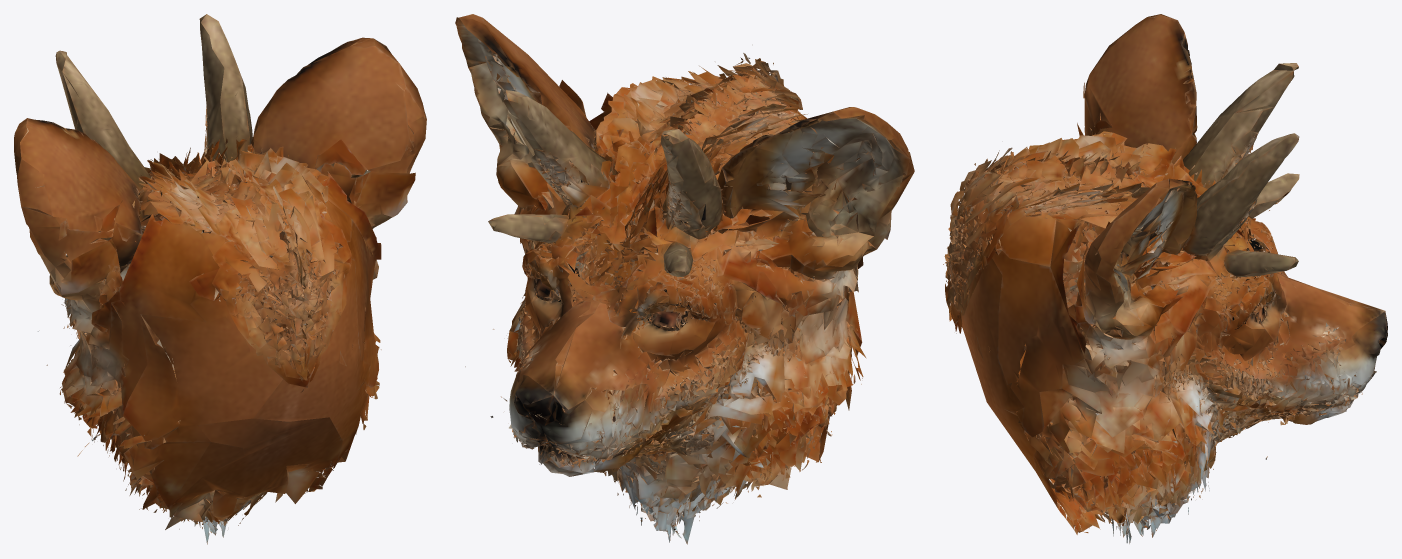
3 renders of one model, left to right at view 1: azimuth 30°, elevation 25°; view 2: azimuth 150°, elevation 25°; view 3: azimuth 270°, elevation 25°, orthographic. The views are drawn at different scales.
Visible parts, largest first — view 1: world; view 2: world; view 3: world.
Boxes of the visible parts, box(x1,y1,x2,y2) form: world: box(14, 14, 426, 544); world: box(455, 14, 914, 544); world: box(943, 14, 1387, 543).
Bounding box in the file's own units: 0.927 × 0.9943 × 0.8875.
1 material, 1 textured.
